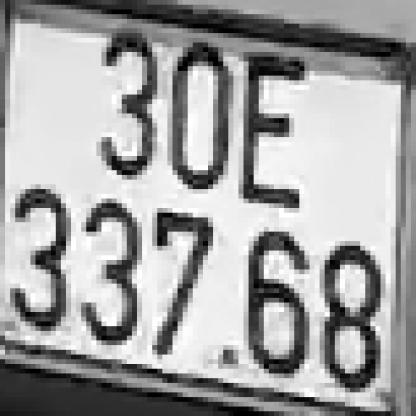0: (173, 43, 223, 189)
3: (96, 33, 158, 175), (10, 189, 71, 326), (81, 204, 142, 340)
6: (244, 232, 304, 368)
7: (152, 208, 208, 345)
8: (314, 236, 376, 388)
E: (238, 57, 304, 208)
